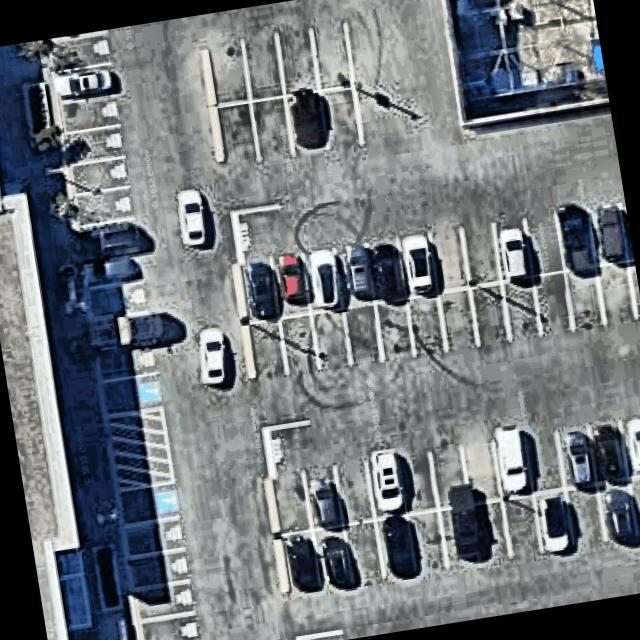car: (82, 306, 170, 354), (444, 483, 488, 569), (489, 423, 532, 497), (286, 89, 331, 155), (379, 511, 421, 581), (557, 206, 599, 276), (366, 446, 408, 514), (73, 220, 143, 260), (304, 249, 345, 311), (242, 260, 281, 324), (593, 204, 632, 267), (285, 535, 324, 597), (73, 252, 137, 289), (601, 485, 639, 547), (591, 422, 629, 484), (535, 495, 573, 557), (367, 452, 405, 514), (559, 429, 597, 491), (397, 234, 435, 296), (365, 239, 403, 301), (51, 66, 116, 101), (317, 533, 355, 590), (494, 222, 530, 282), (272, 249, 308, 307), (305, 474, 341, 530), (340, 240, 375, 297), (623, 415, 640, 477)
lot_boundary: (44, 0, 640, 640)
objects: (104, 407, 173, 491), (265, 479, 291, 595), (231, 264, 257, 380), (199, 49, 223, 163)
stall: (309, 25, 351, 91), (319, 87, 361, 153), (275, 31, 317, 97), (242, 35, 284, 101), (209, 40, 251, 106), (217, 102, 259, 168), (250, 97, 292, 163), (285, 91, 327, 157), (469, 285, 510, 346), (524, 214, 565, 275), (530, 273, 571, 334), (501, 276, 542, 337), (404, 294, 445, 355), (428, 231, 469, 292), (437, 288, 478, 349), (311, 309, 352, 370), (341, 303, 382, 364), (364, 241, 405, 302), (271, 256, 312, 317), (301, 251, 342, 312), (238, 260, 279, 321), (523, 432, 564, 493), (468, 500, 509, 561), (532, 491, 573, 552), (429, 447, 470, 508), (438, 504, 479, 565), (397, 452, 438, 513), (404, 511, 445, 572), (375, 516, 416, 577), (342, 521, 383, 582), (278, 532, 319, 593), (554, 210, 595, 270), (563, 268, 604, 328), (595, 262, 636, 322), (333, 246, 374, 306), (372, 300, 413, 360), (587, 424, 628, 484), (501, 496, 542, 556), (492, 438, 533, 498), (460, 444, 501, 504), (334, 462, 375, 522), (271, 474, 312, 534), (492, 221, 532, 282), (278, 314, 318, 375), (594, 479, 634, 540), (562, 485, 602, 546), (312, 527, 352, 588), (304, 468, 344, 529), (588, 204, 628, 264), (398, 236, 438, 296), (460, 226, 500, 286), (248, 320, 288, 380), (366, 458, 406, 518), (118, 484, 178, 524), (134, 580, 194, 620), (130, 549, 190, 589), (124, 516, 184, 556), (100, 374, 160, 414), (95, 342, 155, 382), (90, 309, 150, 349), (85, 279, 145, 319), (80, 247, 140, 287), (72, 187, 132, 227), (68, 156, 128, 196), (62, 124, 122, 164), (57, 92, 117, 132), (53, 63, 113, 103), (48, 32, 108, 72), (75, 217, 137, 255), (137, 614, 197, 640), (618, 416, 640, 477), (627, 474, 640, 535)
